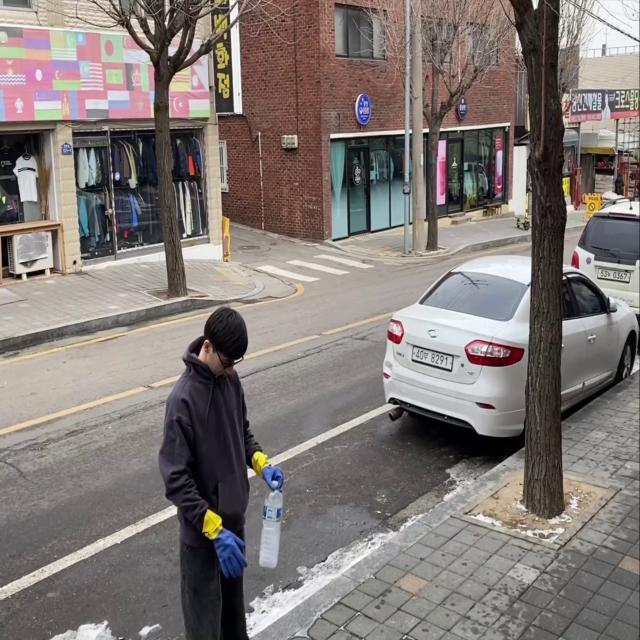gloved_hand: (211, 526, 251, 580), (260, 462, 286, 494)
